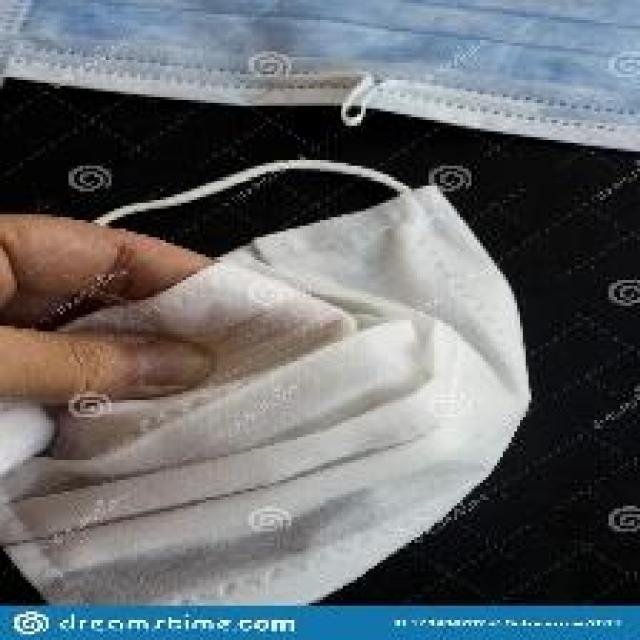Mask: (7, 137, 534, 640), (4, 0, 640, 151)
